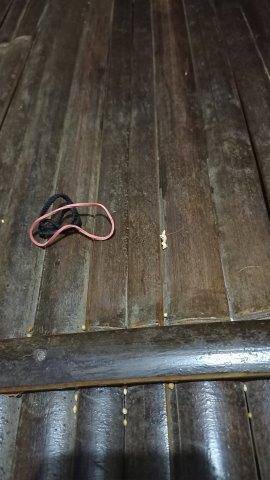karet: (30, 193, 115, 248)
